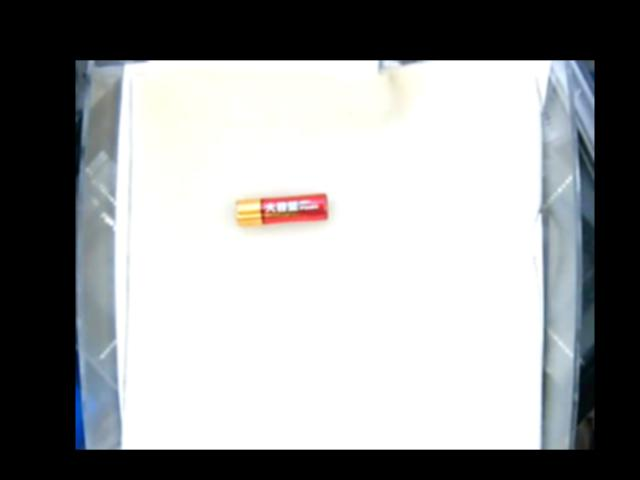Battery: (232, 194, 330, 224)
